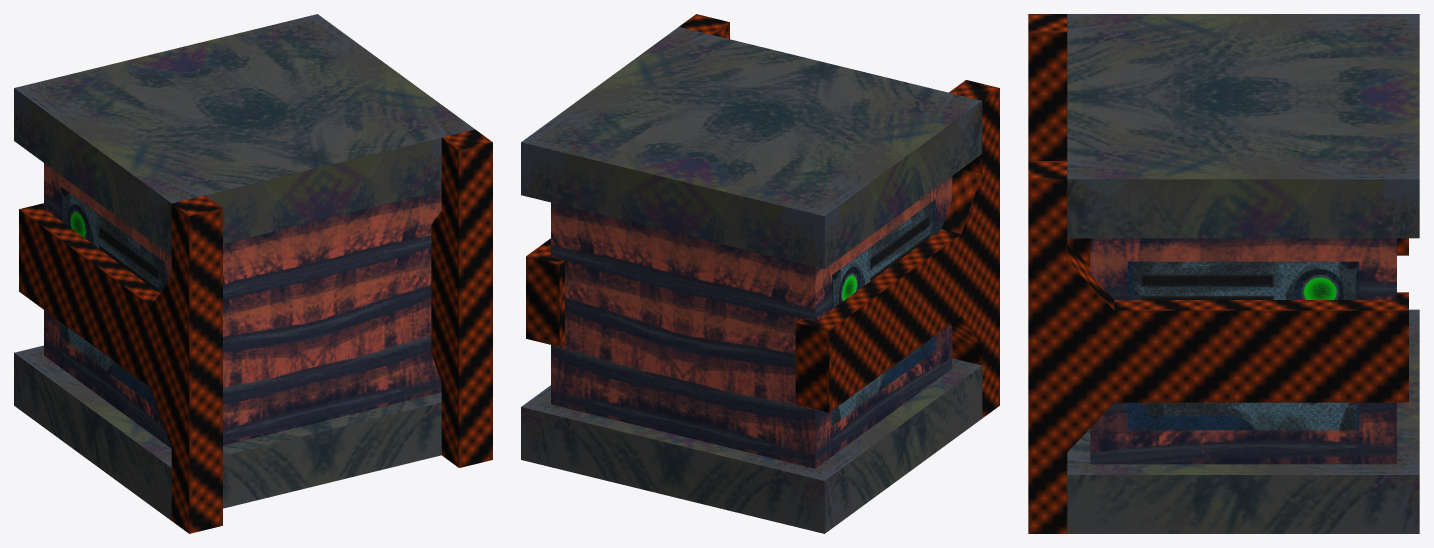
Rendered from Pusher.003.fbx.
The picture shows the model from 3 angles, left to right: view 1: azimuth 30°, elevation 25°; view 2: azimuth 150°, elevation 25°; view 3: azimuth 270°, elevation 25°; orthographic projection. The views are drawn at different scales.
Parts seen in each view (by area): view 1: Body, Arms; view 2: Body, Arms; view 3: Body, Arms.
Boxes of the visible parts, <box> form: Body: <box>14,14,474,520</box>; Arms: <box>19,129,492,533</box>; Body: <box>521,27,982,533</box>; Arms: <box>526,14,999,418</box>; Body: <box>1067,14,1419,533</box>; Arms: <box>1028,14,1408,533</box>.
Bounding box in the file's own units: 2 × 2 × 2.
